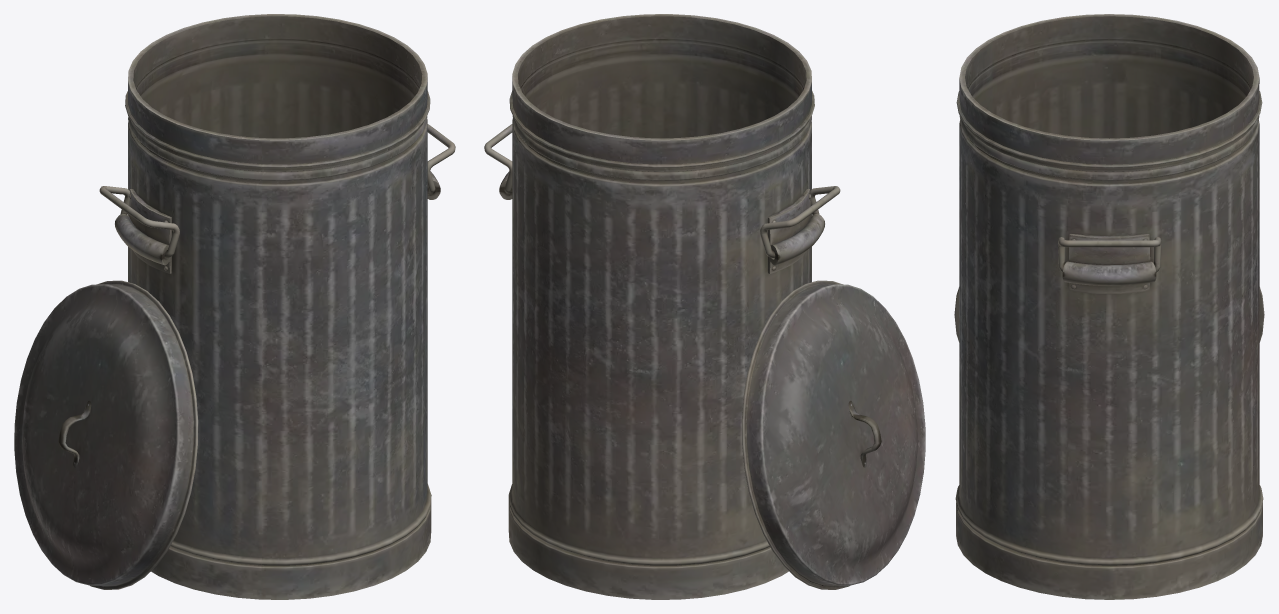
File: trash-can.glb
The picture shows the model from 3 angles, left to right: view 1: azimuth 30°, elevation 25°; view 2: azimuth 150°, elevation 25°; view 3: azimuth 270°, elevation 25°; orthographic projection.
Visible parts, largest first — view 1: metal_trash_can, metal_trash_can_lid, metal_trash_can_handle_left, metal_trash_can_handle_right; view 2: metal_trash_can, metal_trash_can_lid, metal_trash_can_handle_left, metal_trash_can_handle_right; view 3: metal_trash_can, metal_trash_can_handle_right, metal_trash_can_lid.
Boxes of the visible parts, x1,y1,x2,y2 form: metal_trash_can: (115,14,440,599); metal_trash_can_lid: (14,280,198,589); metal_trash_can_handle_left: (99,186,179,257); metal_trash_can_handle_right: (427,124,455,193); metal_trash_can: (499,14,824,599); metal_trash_can_lid: (741,280,925,589); metal_trash_can_handle_left: (760,186,840,258); metal_trash_can_handle_right: (484,124,512,193); metal_trash_can: (955,14,1263,599); metal_trash_can_handle_right: (1058,237,1161,272); metal_trash_can_lid: (954,287,1264,342).
Size of the model in its own units: 0.778 by 0.9062 by 0.5563.
1 material, 1 textured.
